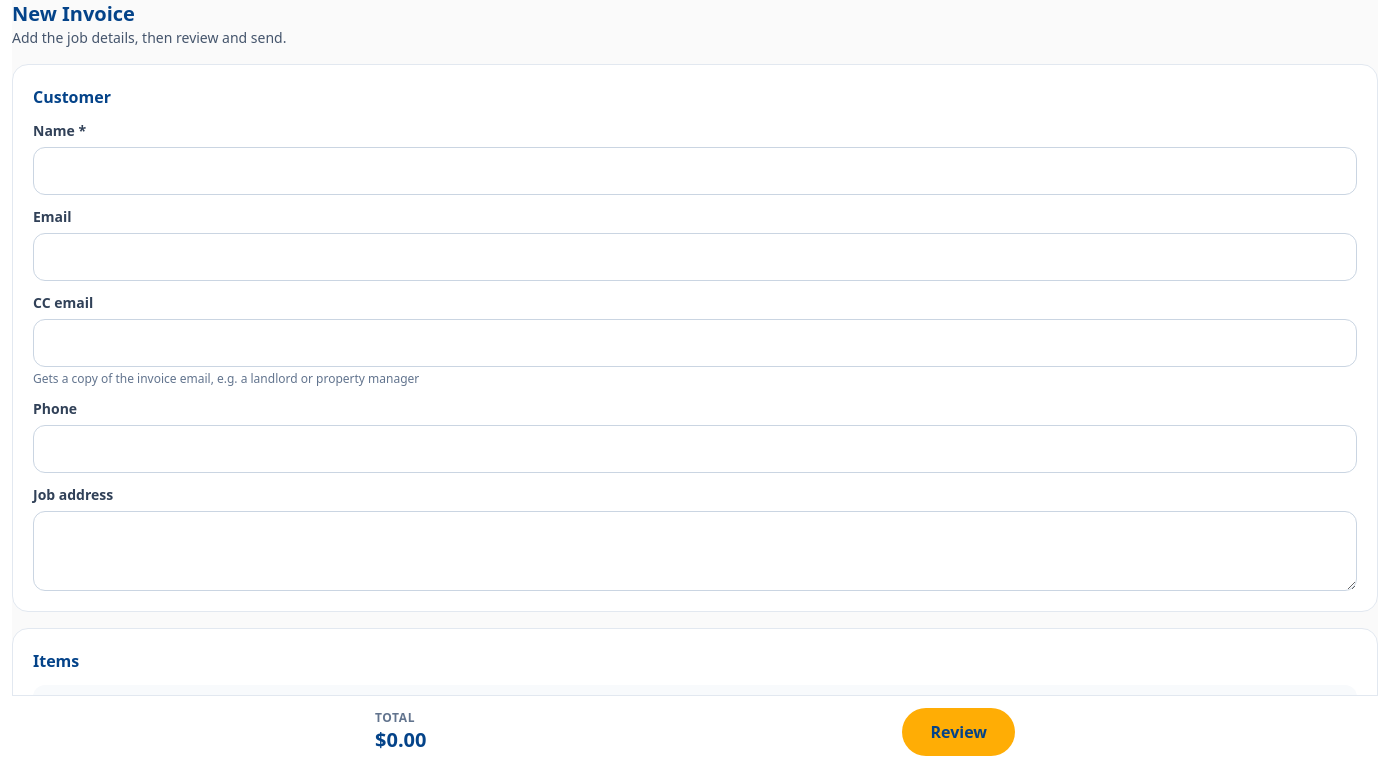
Scenario: InvoiceForm › asks for at least one item before review
In the field labelled "Name *": (695, 171) [33, 147, 1357, 195], type "Jerry Li"
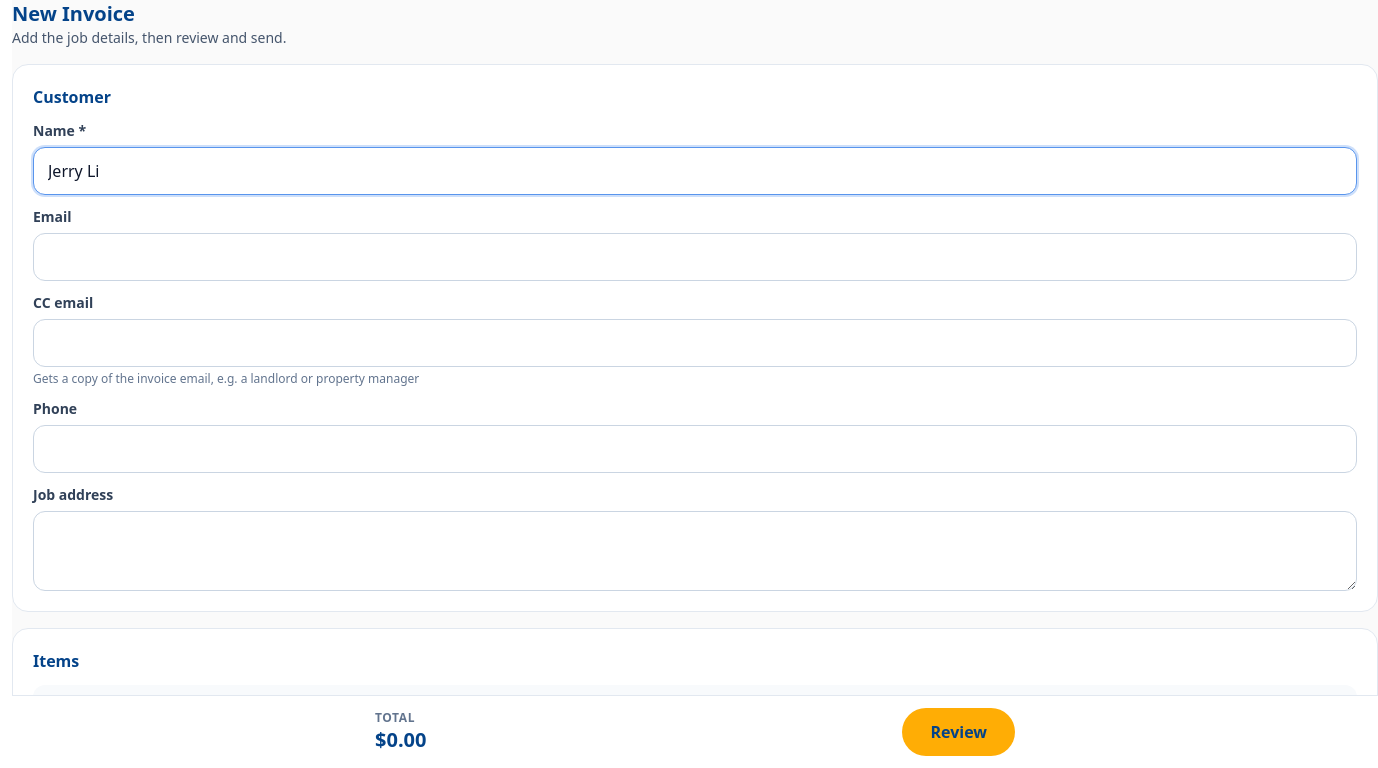
In the field labelled "Email": (695, 257) [33, 233, 1357, 281], type "jerry@example.com"
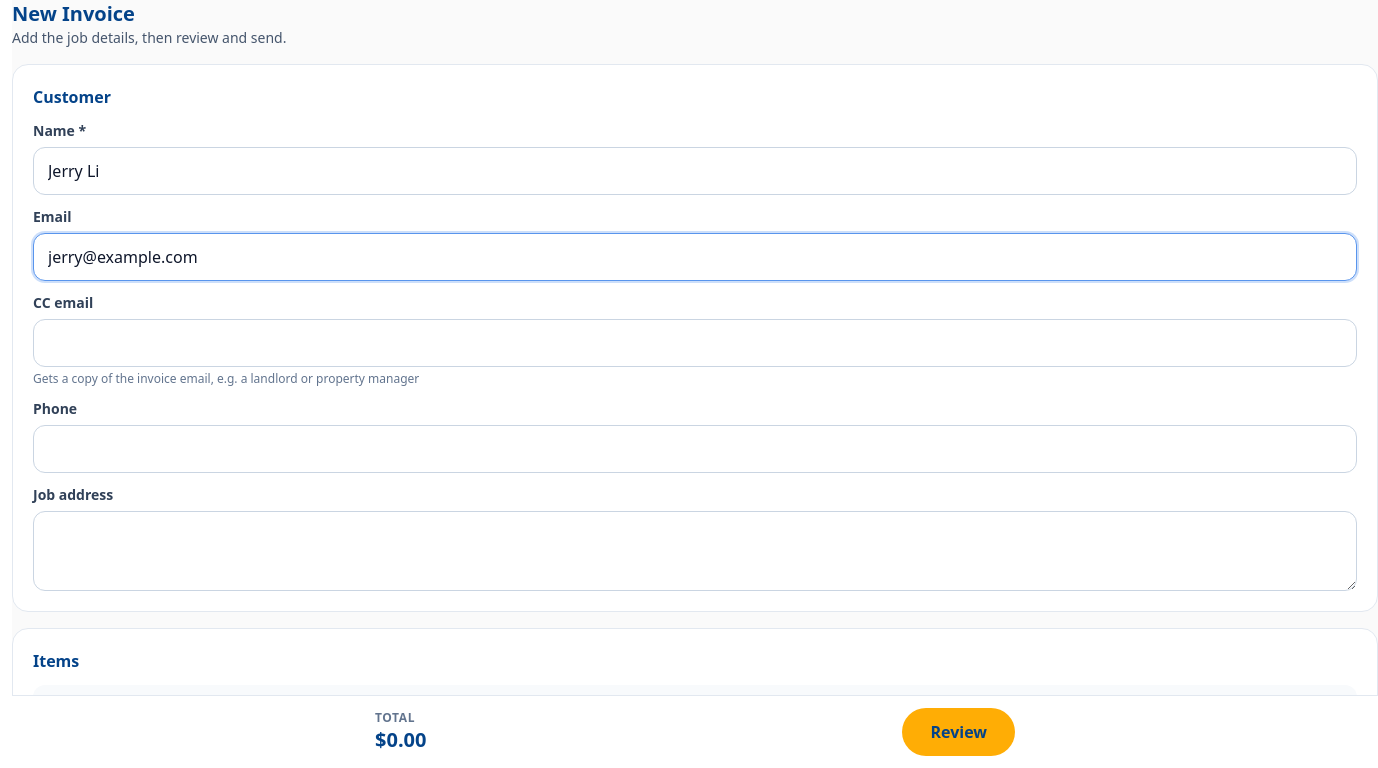
Click the button "Review": (959, 732) [902, 708, 1015, 756]
(page scrolled)
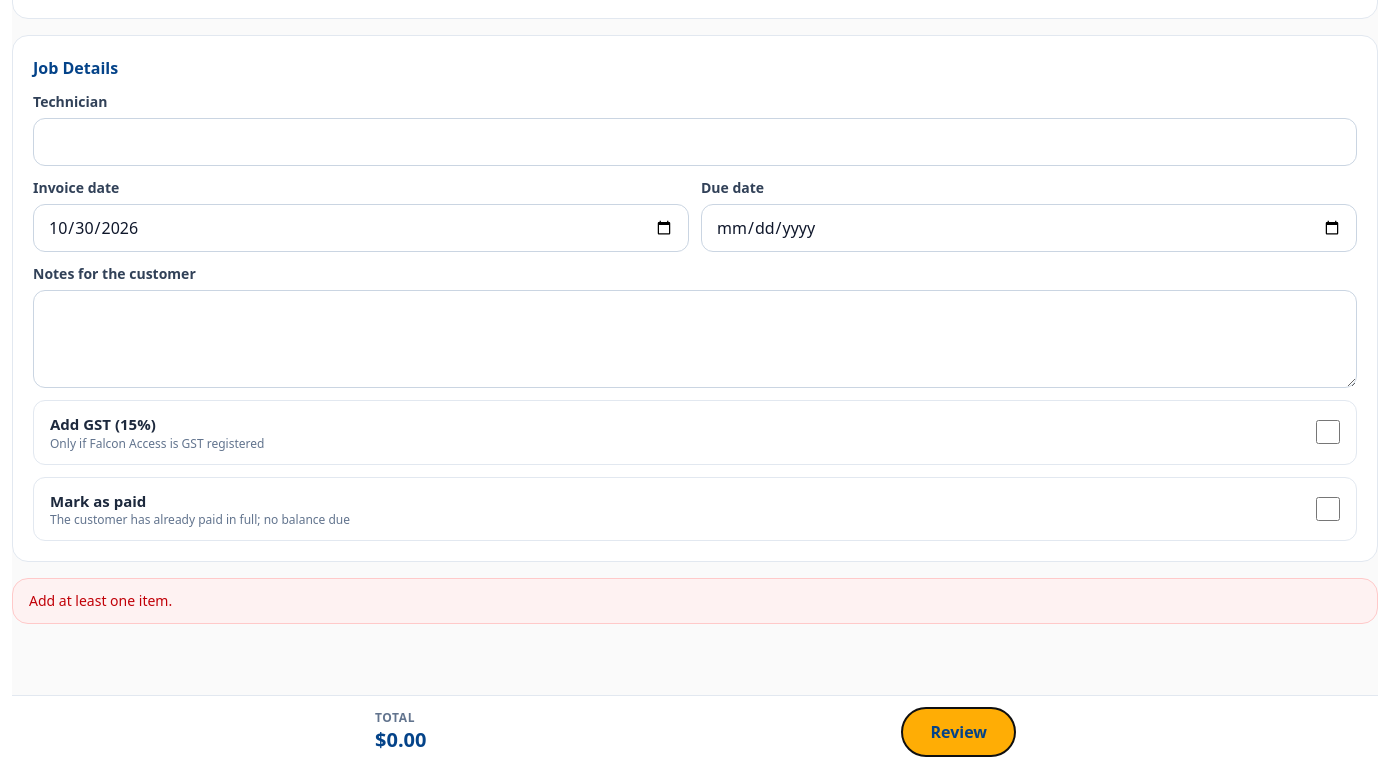
Expected: the message reads "Add at least one item.", [29, 591, 172, 610]
